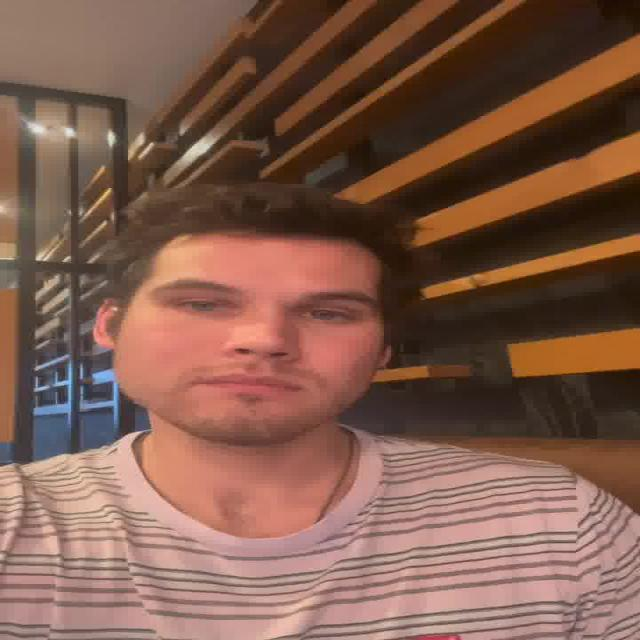earlobe: (95, 332, 117, 350), (378, 346, 395, 368)
eye: (176, 297, 232, 314), (300, 308, 352, 324)
nose: (228, 351, 298, 377)
wholeear: (93, 296, 118, 350)
